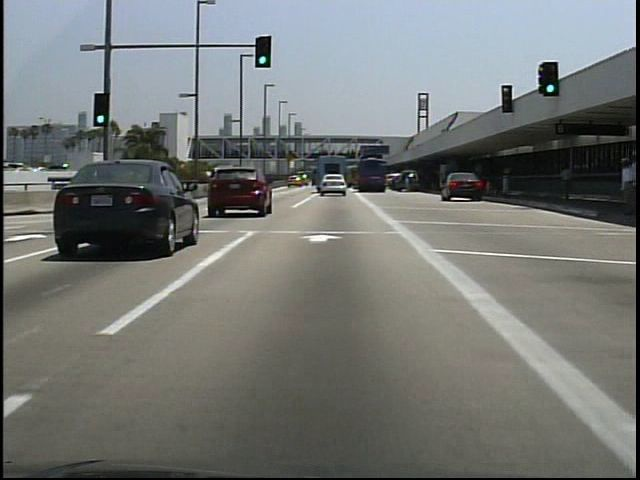person: (617, 151, 637, 220), (554, 158, 575, 206)
